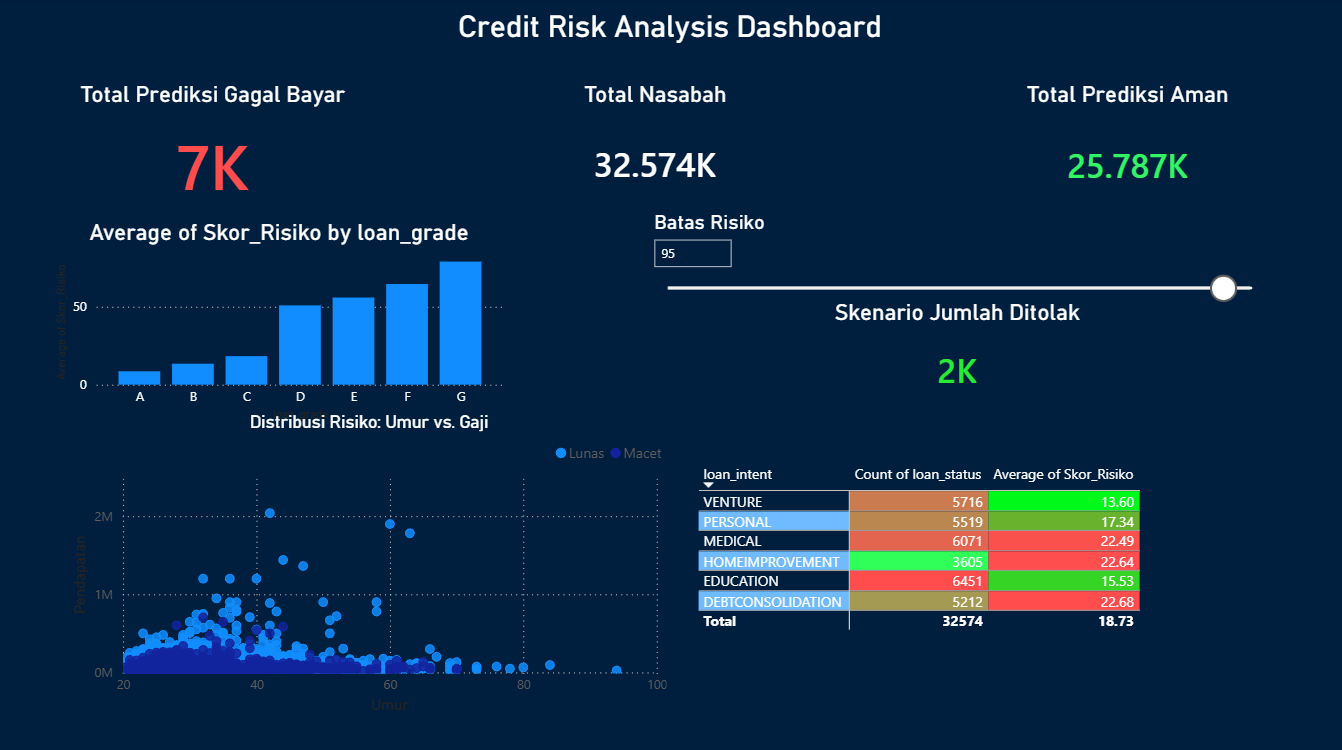

The dashboard page shown, as its layout file describes it:
{"tool":"powerbi","page":{"name":"Dashboard","canvas":[1280,720],"ordinal":1},"visuals":[{"type":"cardVisual","title":"Total Prediksi Gagal Bayar","fields":{"Data":["Sum(hasil_prediksi_credit_risk.Prediksi_Model)"]},"box":[62.8,83,279.5,131.6],"z":0},{"type":"cardVisual","title":"Total Nasabah","fields":{"Data":["CountNonNull(hasil_prediksi_credit_risk.loan_status)"]},"box":[484.5,83.4,280,129.1],"z":1000},{"type":"cardVisual","title":"Total Prediksi Aman","fields":{"Data":["CountNonNull(hasil_prediksi_credit_risk.loan_status)"]},"box":[933.7,83,279.5,131.6],"z":2000},{"type":"clusteredColumnChart","fields":{"Category":["hasil_prediksi_credit_risk.loan_grade"],"Y":["Avg(hasil_prediksi_credit_risk.Skor_Risiko)"]},"box":[46.6,214.7,437.5,196.5],"z":3000},{"type":"slicer","fields":{"Values":["Batas Risiko.Batas Risiko"]},"box":[609.6,200.5,603.5,160],"z":4000},{"type":"cardVisual","title":"Skenario Jumlah Ditolak","fields":{"Data":["hasil_prediksi_credit_risk.Jumlah Ditolak (Skenario)"]},"box":[609.6,289.6,603.5,107.3],"z":5000},{"type":"scatterChart","title":"Distribusi Risiko: Umur vs. Gaji","fields":{"X":["hasil_prediksi_credit_risk.person_age"],"Y":["hasil_prediksi_credit_risk.person_income"],"Series":["hasil_prediksi_credit_risk.Status Label"]},"box":[62.8,397,577.2,291.6],"z":6000},{"type":"pivotTable","fields":{"Rows":["hasil_prediksi_credit_risk.loan_intent"],"Values":["CountNonNull(hasil_prediksi_credit_risk.loan_status)","Avg(hasil_prediksi_credit_risk.Skor_Risiko)"]},"box":[660.3,441.5,544.8,247.1],"z":7000},{"type":"textbox","box":[62.8,8.1,1150.4,50.6],"z":8000}]}

Visuals, with their boxes in screenshot pixels (x1, y1, x2, y2), scaled from the page's 1280x720 canvas onto the 1342x750 screenshot:
"Total Prediksi Gagal Bayar" cardVisual: left=66, top=86, right=359, bottom=224
"Total Nasabah" cardVisual: left=508, top=87, right=802, bottom=221
"Total Prediksi Aman" cardVisual: left=979, top=86, right=1272, bottom=224
clusteredColumnChart - hasil_prediksi_credit_risk.loan_grade x Avg(hasil_prediksi_credit_risk.Skor_Risiko): left=49, top=224, right=508, bottom=428
slicer - Batas Risiko.Batas Risiko: left=639, top=209, right=1272, bottom=376
"Skenario Jumlah Ditolak" cardVisual: left=639, top=302, right=1272, bottom=413
"Distribusi Risiko: Umur vs. Gaji" scatterChart: left=66, top=414, right=671, bottom=717
pivotTable - hasil_prediksi_credit_risk.loan_intent x CountNonNull(hasil_prediksi_credit_risk.loan_status): left=692, top=460, right=1263, bottom=717
textbox: left=66, top=8, right=1272, bottom=61
